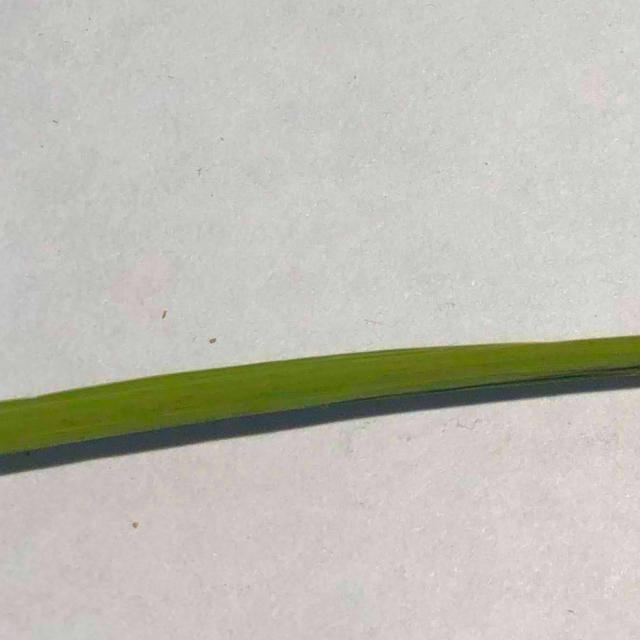healthy: (3, 291, 640, 485)
